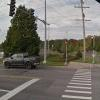Crosswalk: (65, 60, 99, 100)
